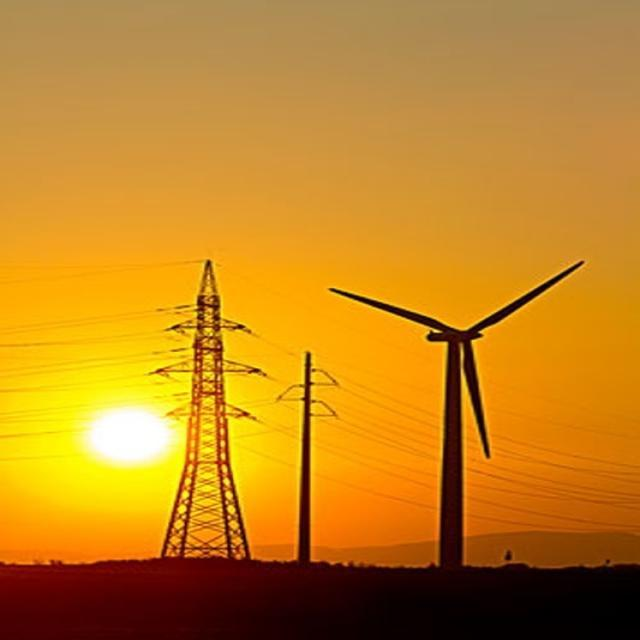non-critical vegetation: (138, 250, 251, 560)
